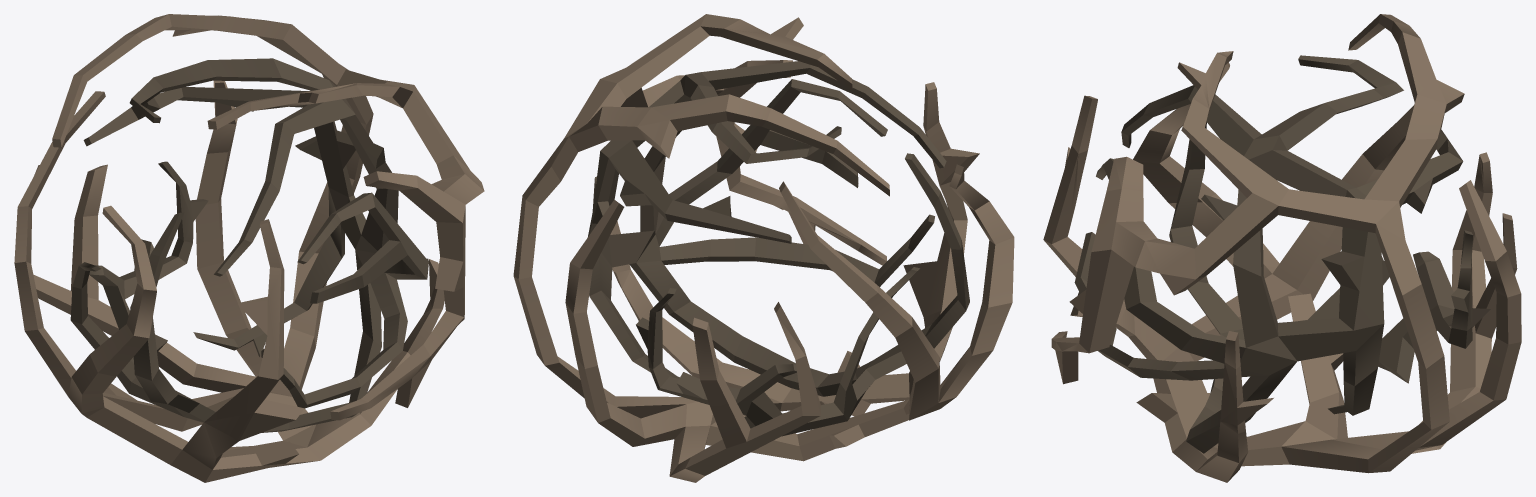
File: tumbleweed.glb
The picture shows the model from 3 angles, left to right: view 1: azimuth 30°, elevation 25°; view 2: azimuth 150°, elevation 25°; view 3: azimuth 270°, elevation 25°; orthographic projection. The views are drawn at different scales.
Visible parts, largest first — view 1: SM_Prop_Tumbleweed_01_LOD0; view 2: SM_Prop_Tumbleweed_01_LOD0; view 3: SM_Prop_Tumbleweed_01_LOD0.
Part boxes in pixels (x1,y1,x2,y2): SM_Prop_Tumbleweed_01_LOD0: [14, 14, 484, 482]; SM_Prop_Tumbleweed_01_LOD0: [513, 14, 1014, 482]; SM_Prop_Tumbleweed_01_LOD0: [1043, 14, 1521, 482].
Size of what is drawn, in the model's own units: 0.6682 by 0.6485 by 0.6832.
1 material, 1 textured.
